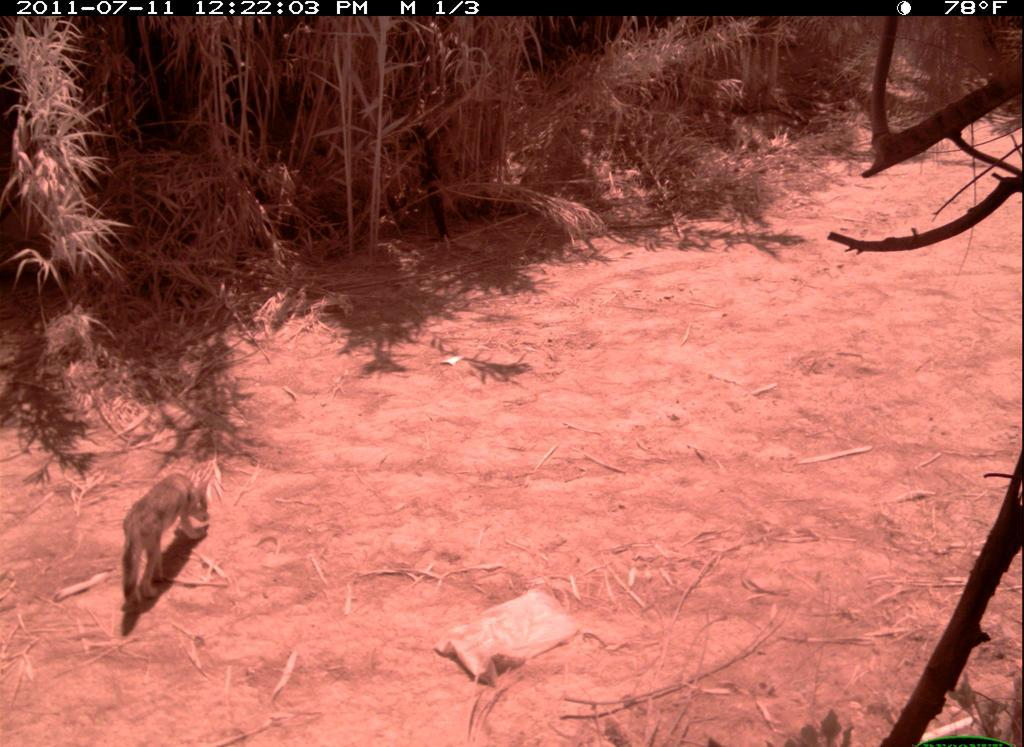coyote: (108, 455, 233, 626)
